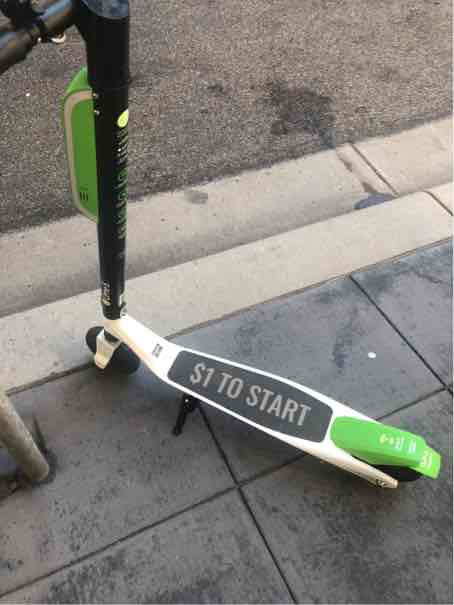scooter: (1, 1, 445, 503)
